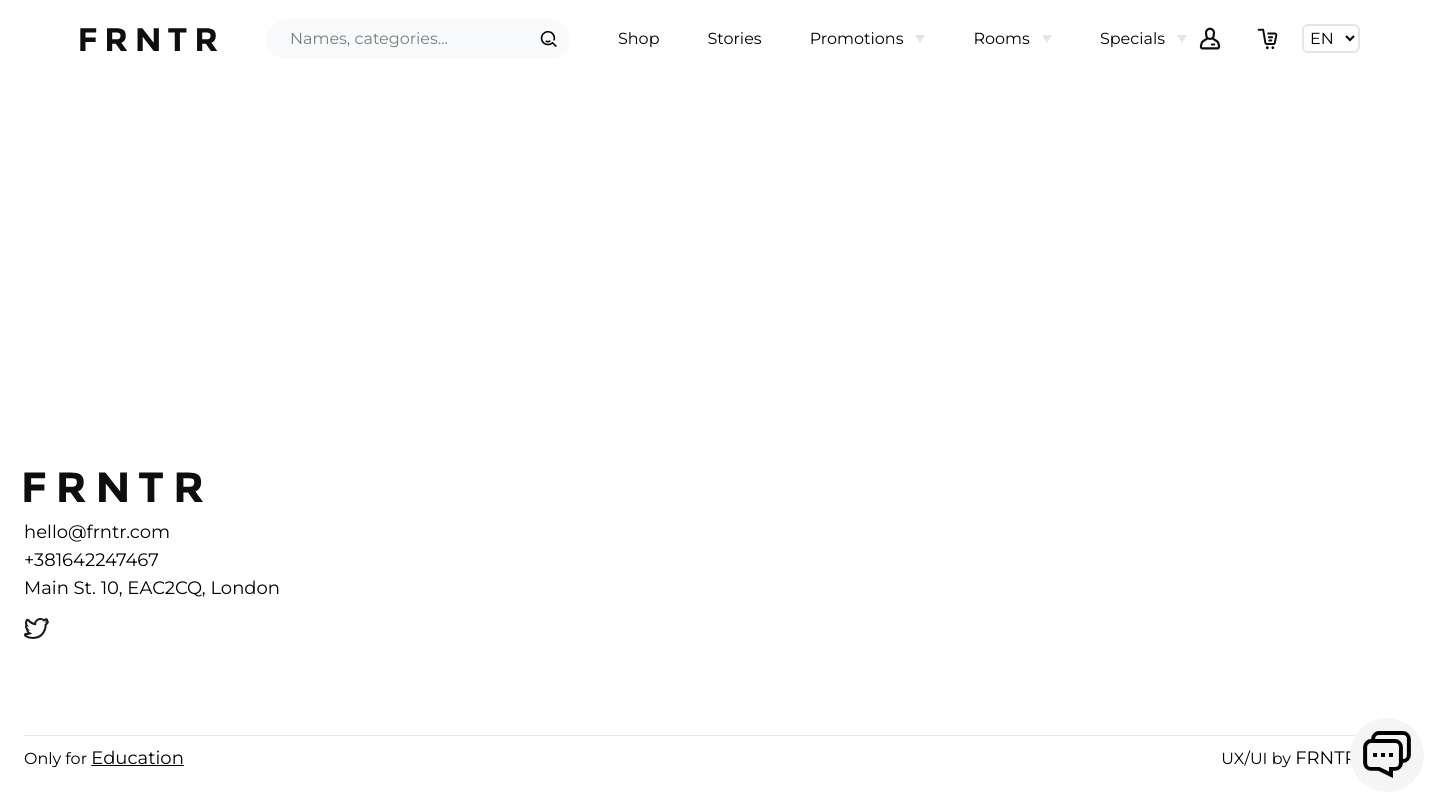
navigation tests › desktop test navigation
This screenshot has width=1440, height=800.
Check: the text "browse categories" is not shown
Click the link "Shop". click: coordinates (639, 39)
box: [618, 29, 660, 48]
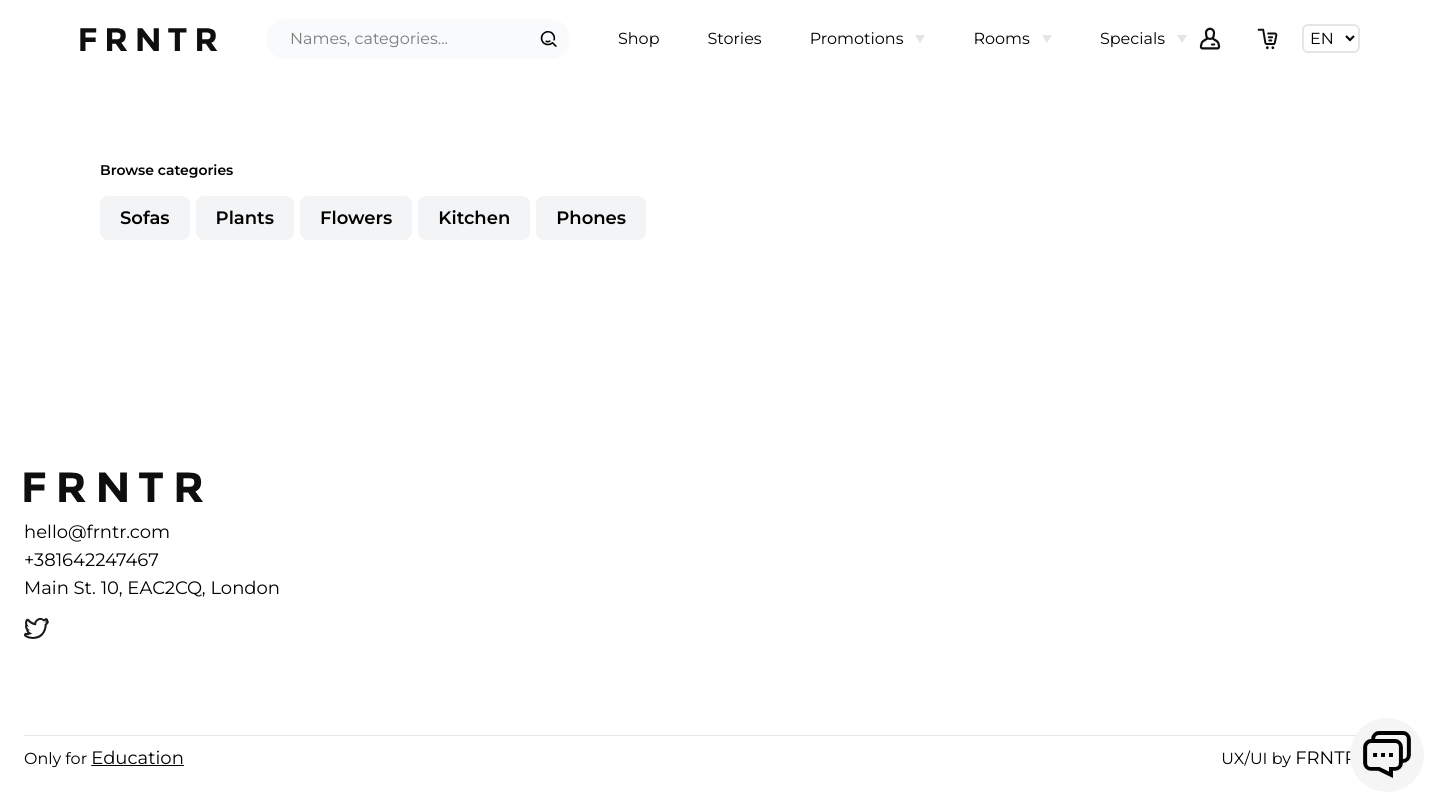
Check: the heading "Browse categories" is shown, box [100, 161, 233, 179]
